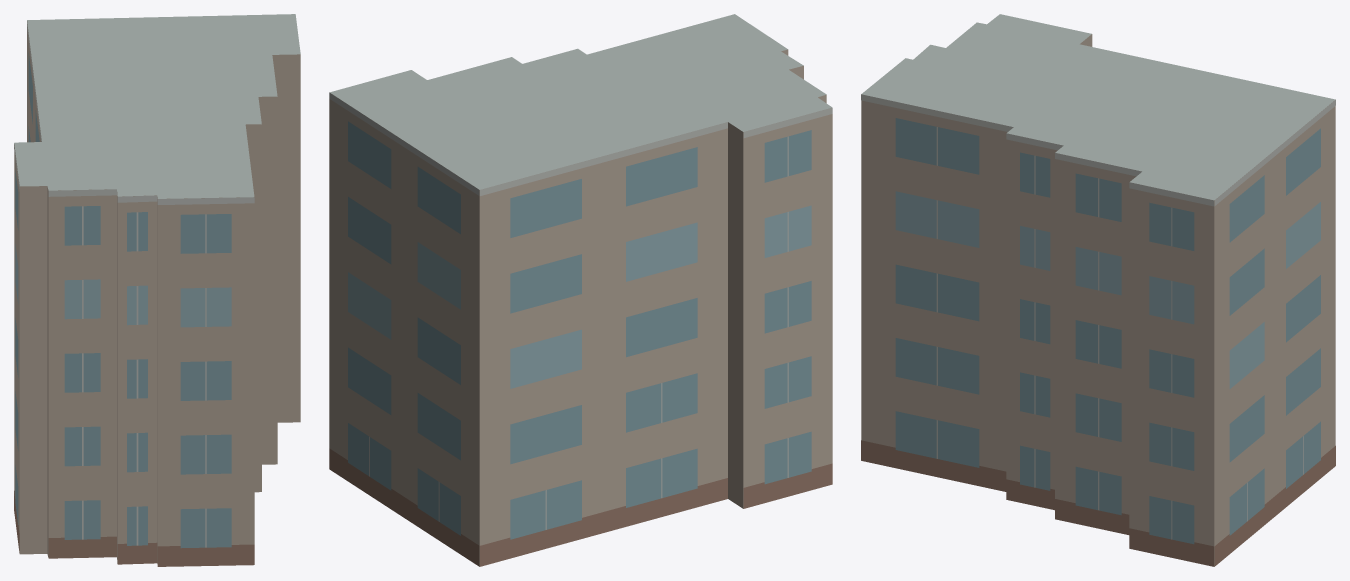
The model's file is survey-upis-32669817.glb.
The picture shows the model from 3 angles, left to right: view 1: azimuth 30°, elevation 25°; view 2: azimuth 150°, elevation 25°; view 3: azimuth 270°, elevation 25°; orthographic projection. The views are drawn at different scales.
Visible parts, largest first — view 1: survey-upis-32669817.tmp; view 2: survey-upis-32669817.tmp; view 3: survey-upis-32669817.tmp.
Part boxes in pixels (<box>): survey-upis-32669817.tmp: <box>14,14,300,566</box>; survey-upis-32669817.tmp: <box>329,14,832,566</box>; survey-upis-32669817.tmp: <box>861,14,1335,566</box>.
Size of the model in its own units: 15.83 by 14.5 by 17.03.
